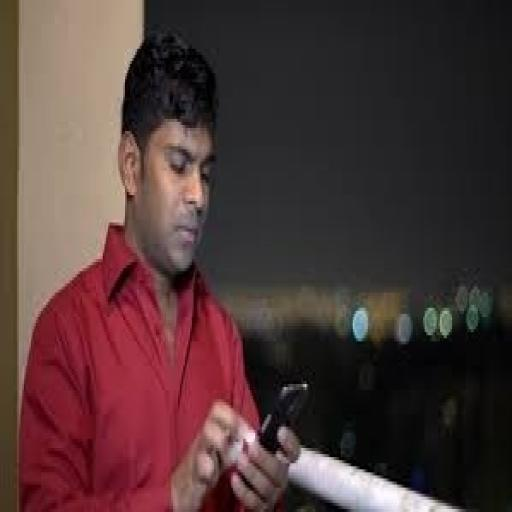calling: (17, 24, 302, 509)
